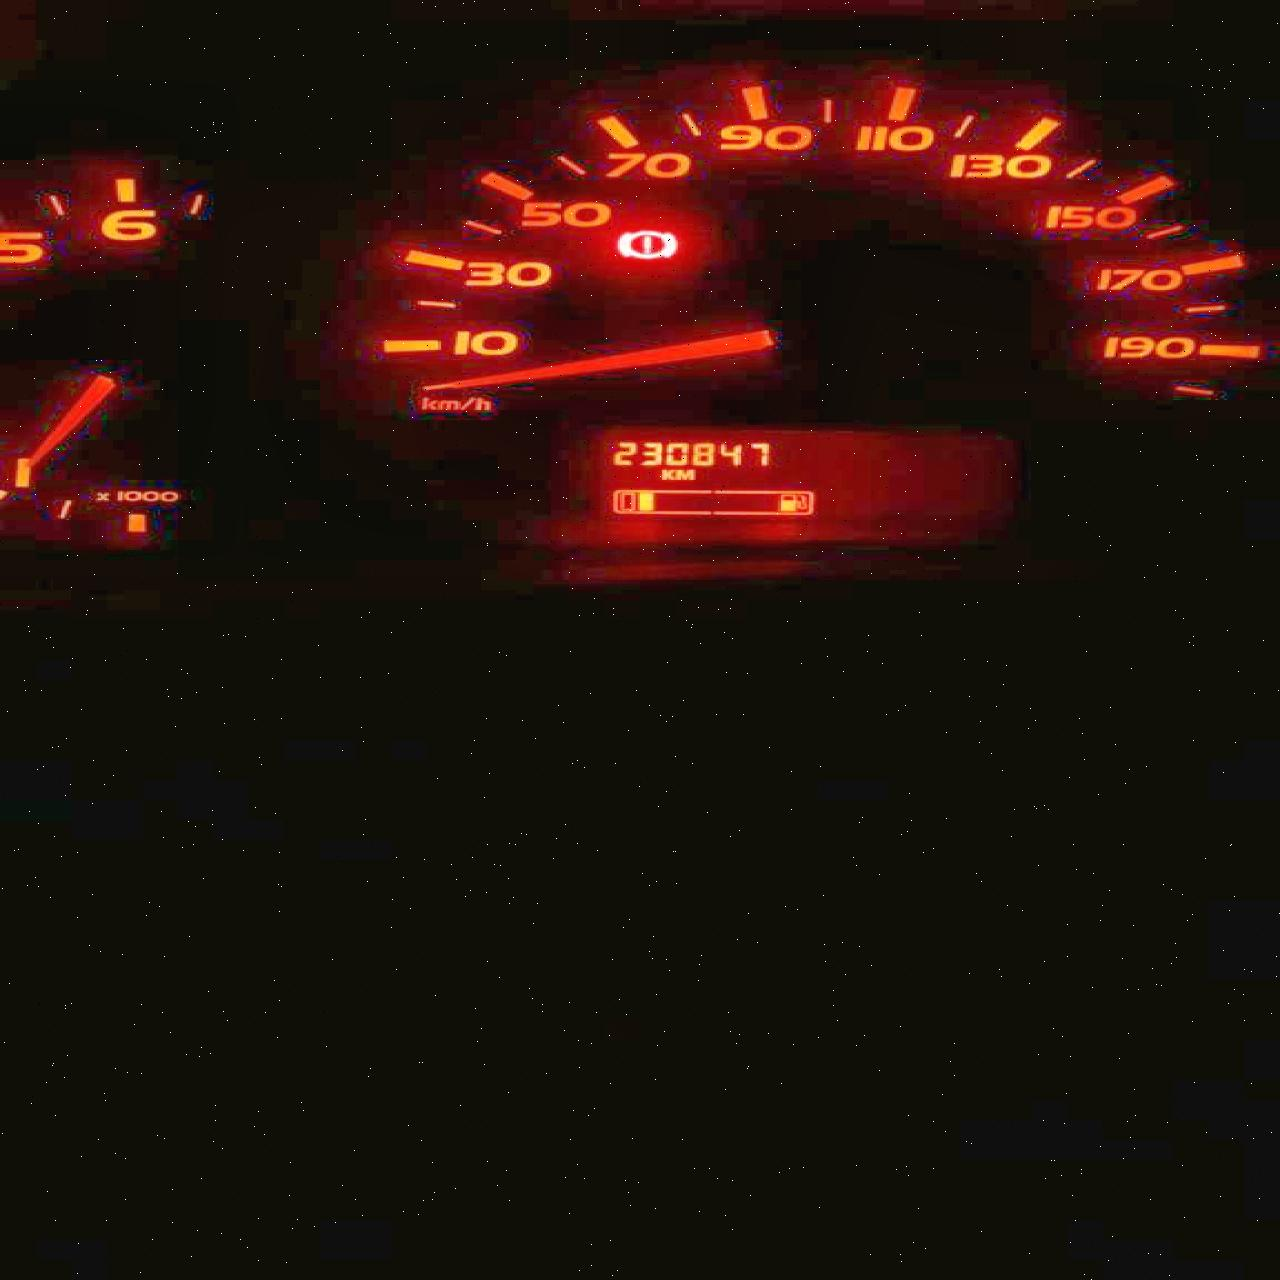0: (662, 440, 689, 465)
2: (608, 440, 635, 465)
3: (640, 440, 660, 465)
4: (717, 442, 742, 467)
7: (747, 440, 771, 467)
8: (692, 440, 713, 465)
X: (674, 468, 694, 481), (658, 468, 673, 481)
odometer: (585, 429, 853, 533)
